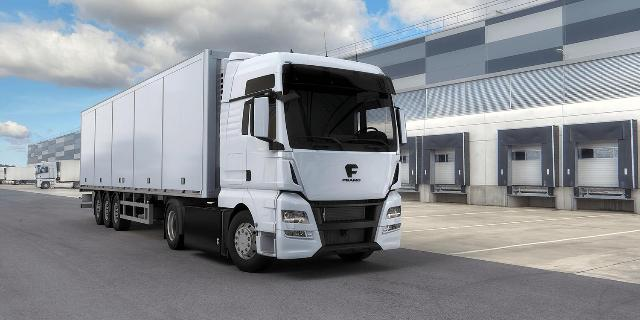truck: (104, 36, 421, 283)
